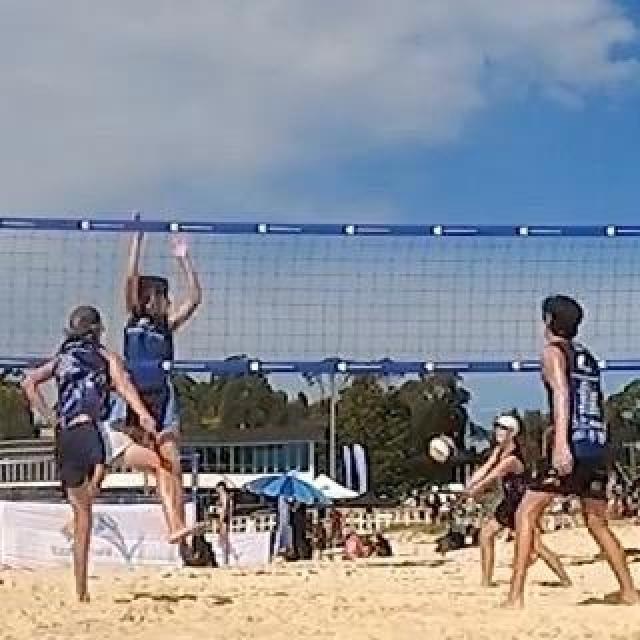volleyball: (429, 438, 453, 464)
